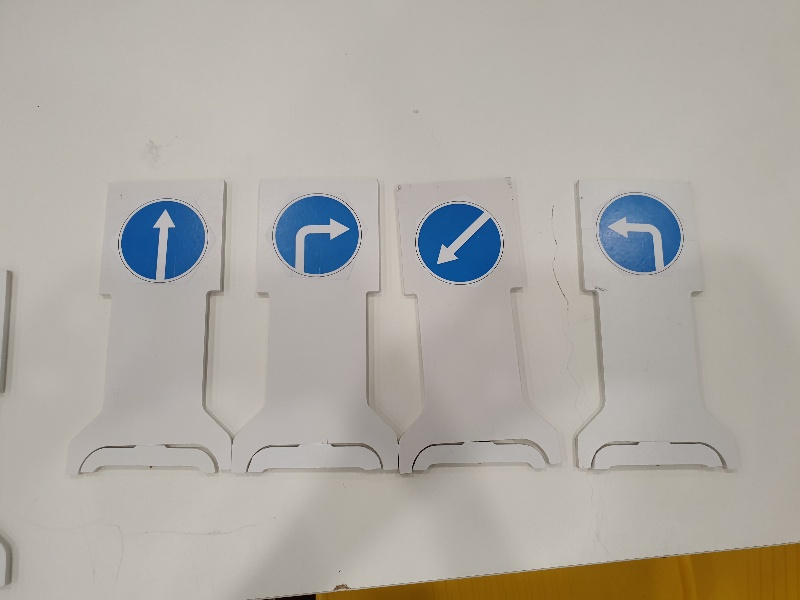Left: (588, 187, 692, 283)
Right: (264, 187, 368, 283)
forw: (110, 193, 214, 289)
prep: (409, 195, 513, 291)
